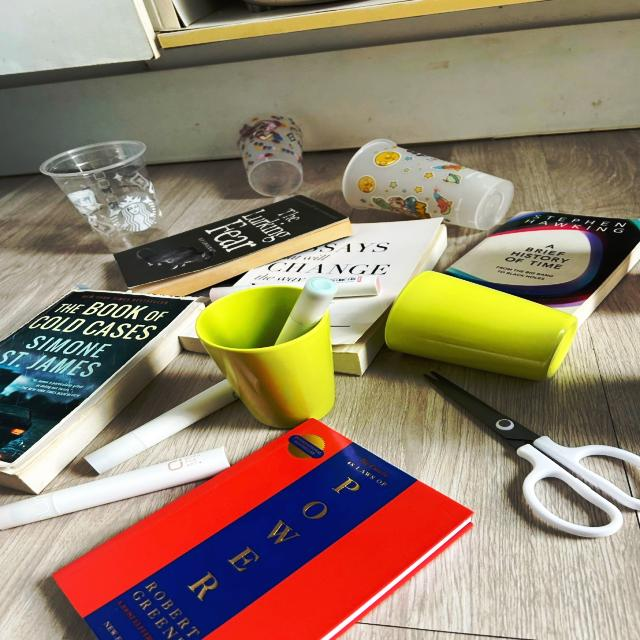Book: (54, 419, 472, 640), (0, 288, 205, 495), (199, 220, 447, 376), (118, 197, 357, 297), (444, 212, 639, 322)
HighLight Pen: (0, 447, 229, 529), (85, 380, 237, 474), (273, 281, 341, 349), (219, 280, 316, 298), (319, 276, 380, 298)
Plastic Cup: (340, 138, 519, 228), (40, 141, 163, 253), (239, 116, 303, 197)
Scissors: (429, 372, 639, 538)
WaterGlass: (385, 271, 578, 380)
